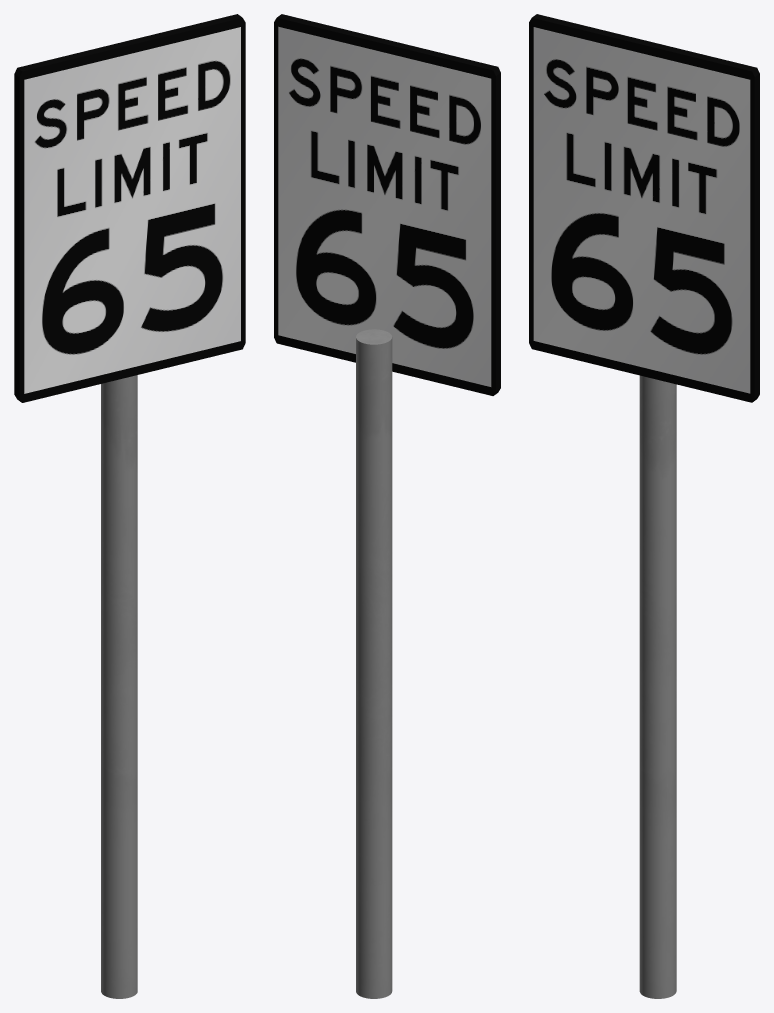
Rendered from mph_sign.fbx.
3 renders of one model, left to right at view 1: azimuth 30°, elevation 25°; view 2: azimuth 150°, elevation 25°; view 3: azimuth 330°, elevation 25°, orthographic.
Parts seen in each view (by area): view 1: MPH, Pole5; view 2: MPH, Pole5; view 3: MPH, Pole5.
Boxes of the visible parts, x1=… form: MPH: x1=14, y1=14, x2=245, y2=402; Pole5: x1=101, y1=375, x2=137, y2=998; MPH: x1=274, y1=14, x2=500, y2=395; Pole5: x1=356, y1=329, x2=392, y2=998; MPH: x1=529, y1=14, x2=759, y2=402; Pole5: x1=639, y1=375, x2=676, y2=998.
Size of the model in its own units: 2.34 by 9.49 by 0.4292.
